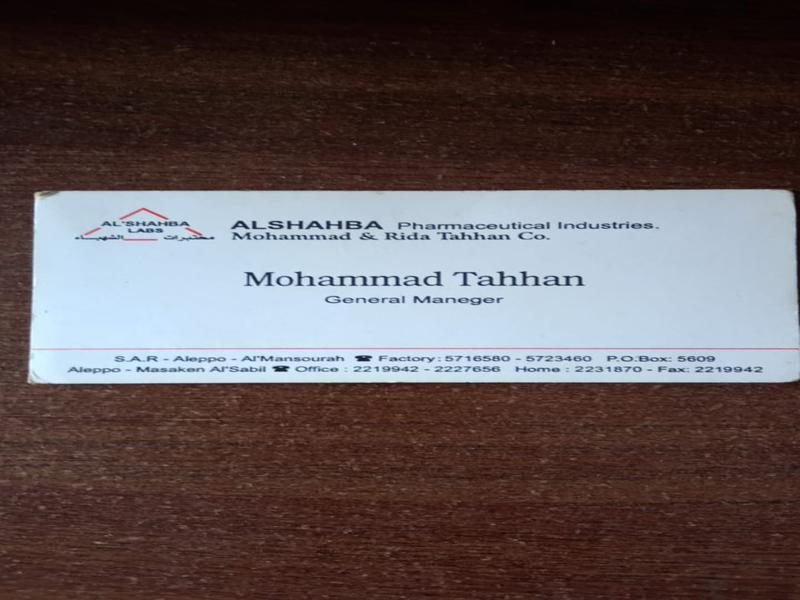card: (25, 187, 800, 388)
